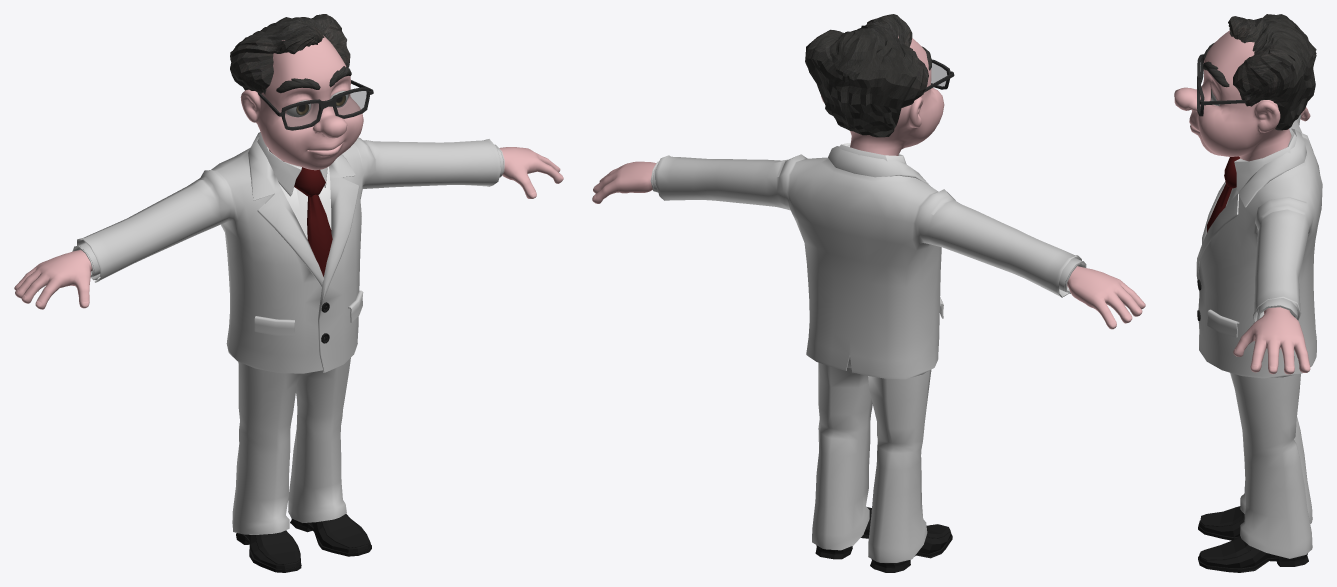
The model's file is Employe.FBX.
3 views of the same model, side by side, from view 1: azimuth 30°, elevation 25°; view 2: azimuth 150°, elevation 25°; view 3: azimuth 270°, elevation 25° (orthographic).
Parts seen in each view (by area): view 1: Employe_Suit, Employe_Face, Employe_Hair, Employe_Hand, Employe_Shoes, Employe_Glasses; view 2: Employe_Suit, Employe_Hair, Employe_Hand, Employe_Face, Employe_Shoes; view 3: Employe_Suit, Employe_Face, Employe_Hair, Employe_Hand, Employe_Shoes, Employe_Glasses, Employe_Brow.
Boxes of the visible parts, x1,y1,x2,y2 form: Employe_Suit: (72, 132, 504, 534); Employe_Face: (240, 35, 363, 170); Employe_Hair: (230, 14, 350, 94); Employe_Hand: (14, 147, 563, 309); Employe_Shoes: (236, 514, 371, 572); Employe_Glasses: (258, 80, 373, 130); Employe_Suit: (650, 143, 1086, 562); Employe_Hair: (805, 14, 928, 137); Employe_Hand: (592, 161, 1145, 329); Employe_Face: (821, 36, 944, 155); Employe_Shoes: (815, 507, 952, 572); Employe_Suit: (1196, 114, 1322, 558); Employe_Face: (1174, 30, 1291, 161); Employe_Hair: (1228, 14, 1316, 130); Employe_Hand: (1233, 107, 1310, 374); Employe_Shoes: (1198, 506, 1308, 572); Employe_Glasses: (1197, 54, 1259, 116); Employe_Brow: (1202, 43, 1229, 87).
Size of the model in its own units: 178 by 42.05 by 165.
